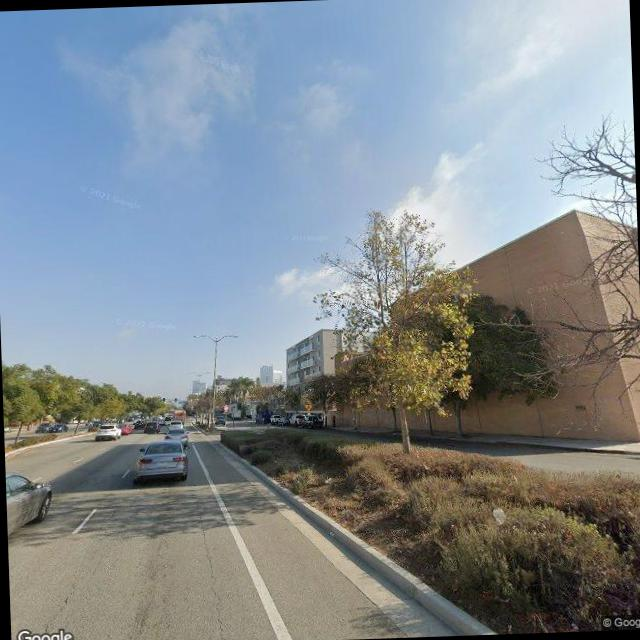pothole: (192, 510, 227, 640), (38, 582, 78, 631)
